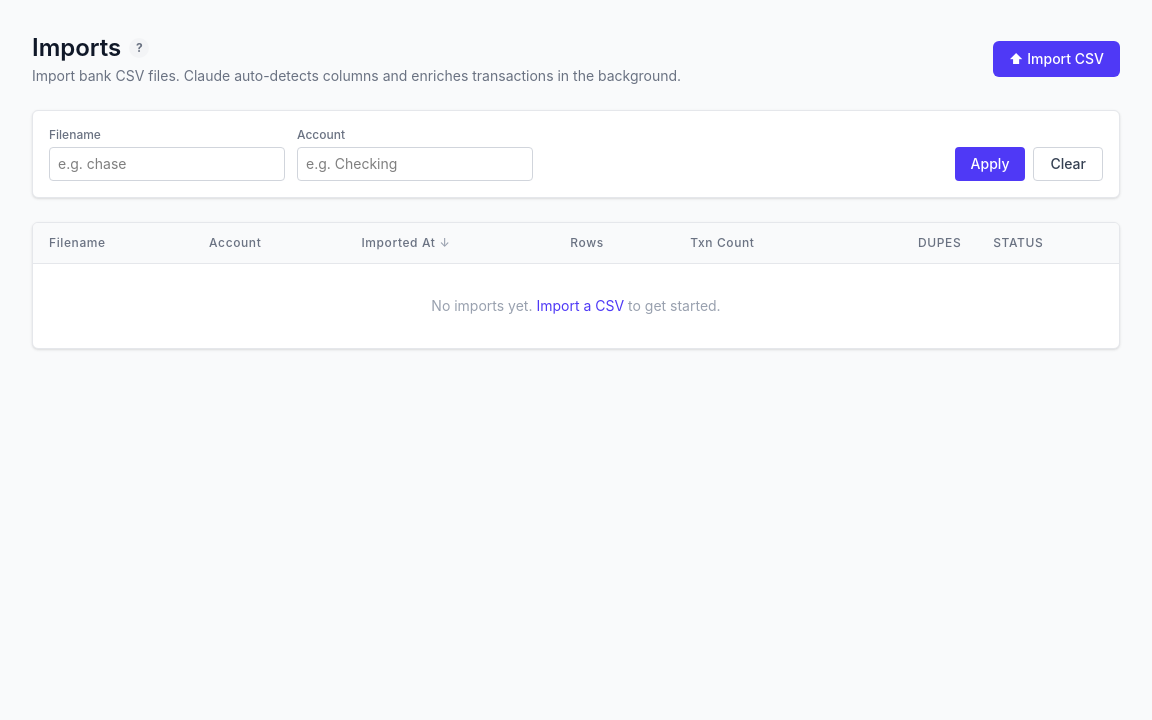
Test: ImportsPage › shows Import CSV button and reveals import form on click
Click the button "⬆ Import CSV" at (1056, 59), box [993, 41, 1120, 77]
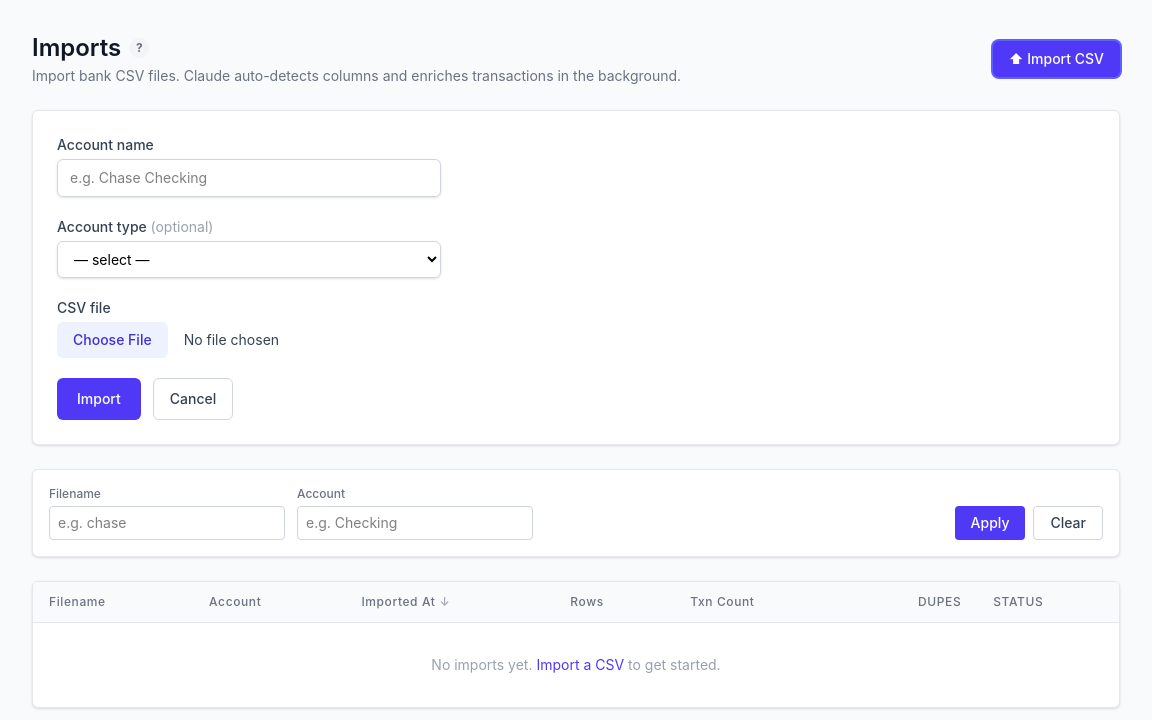
Check: the field labelled "Account name" is shown, box [57, 159, 441, 197]
Check: the file field labelled "CSV file" is shown, box [57, 322, 358, 358]
